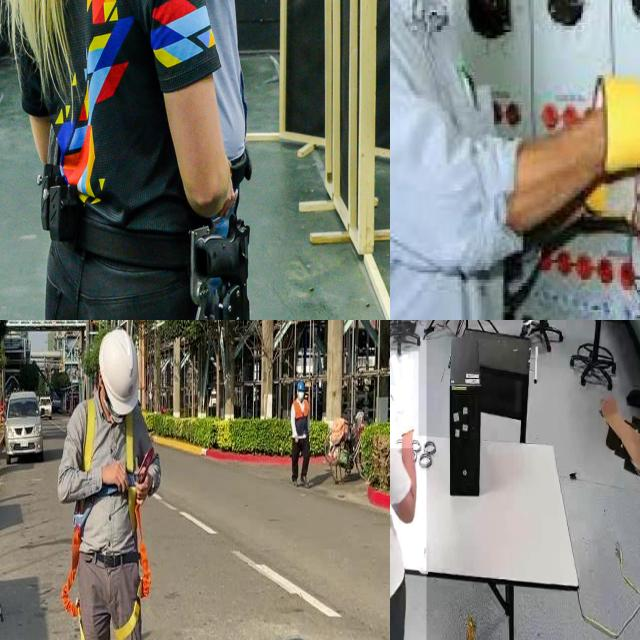Harness: (115, 501, 152, 640), (61, 524, 88, 640)
hand_glove: (585, 75, 640, 233), (390, 351, 418, 448)
person: (6, 0, 206, 320)
shoes: (522, 320, 536, 326)
